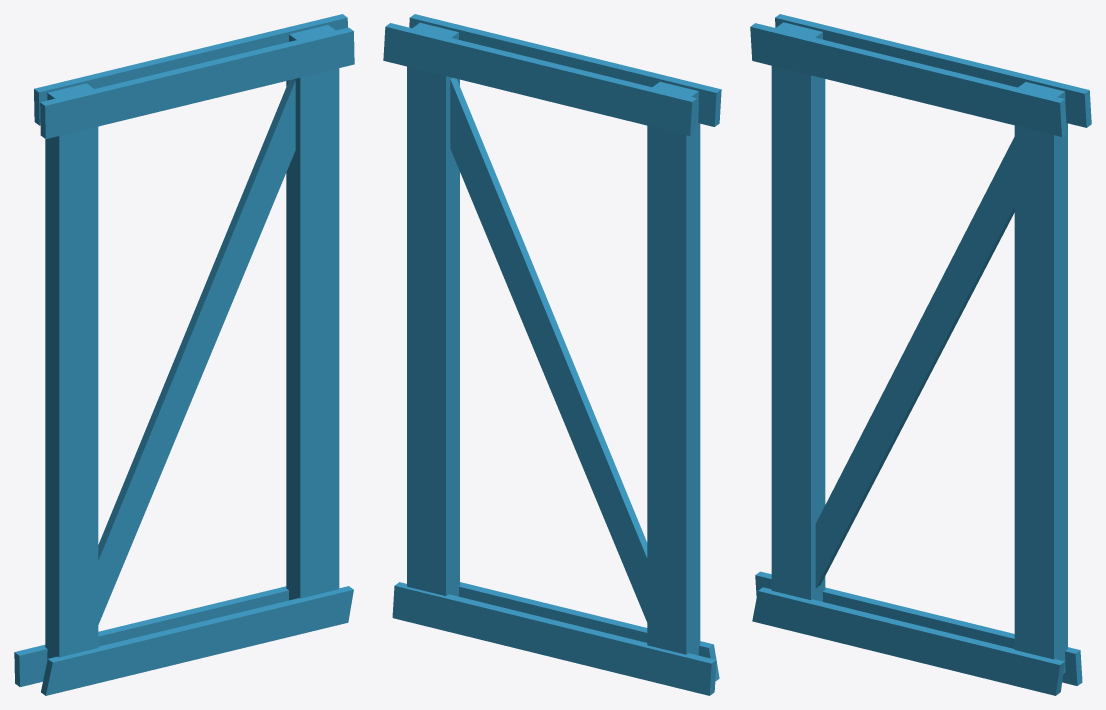
Rendered from WoodPlatform_Support.fbx.
3 renders of one model, left to right at view 1: azimuth 30°, elevation 25°; view 2: azimuth 150°, elevation 25°; view 3: azimuth 330°, elevation 25°, orthographic.
Visible parts, largest first — view 1: WoodPlatform_Support; view 2: WoodPlatform_Support; view 3: WoodPlatform_Support.
Boxes of the visible parts, <box> form: WoodPlatform_Support: <box>14,14,354,695</box>; WoodPlatform_Support: <box>383,14,721,695</box>; WoodPlatform_Support: <box>750,14,1091,695</box>.
Bounding box in the file's own units: 189 × 325 × 21.5.
